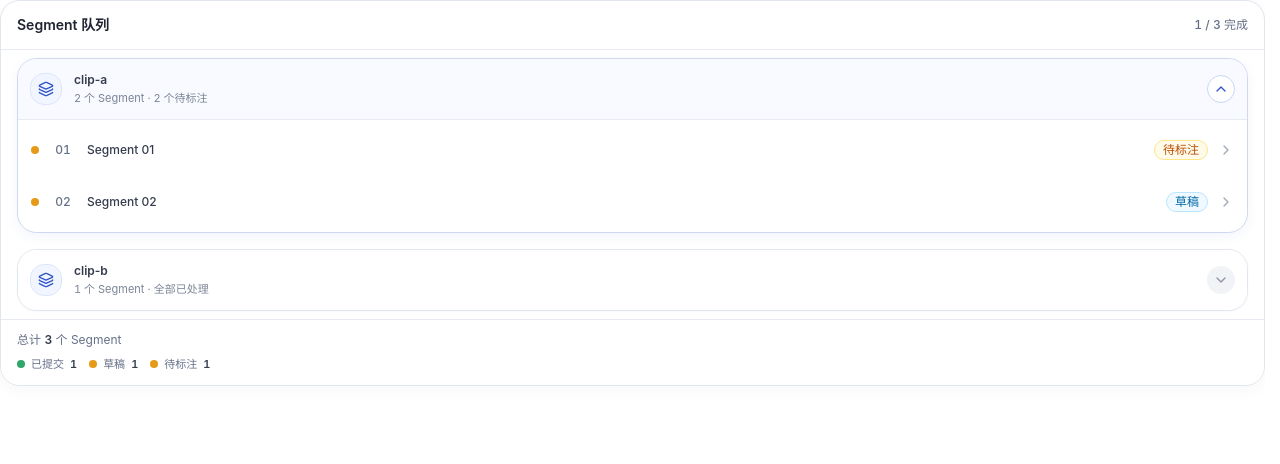
Test: groups by clip and orders numeric Segment navigation by ordinal
expect the button with aria-label "打开 Segment 01，待标注" is shown: met, box [22,124,1243,176]
expect the button with aria-label "打开 Segment 02，草稿" is shown: met, box [22,176,1243,228]
Click the button with aria-label "展开外层 clip clip-b" at (46, 280), box [18,250,1247,310]
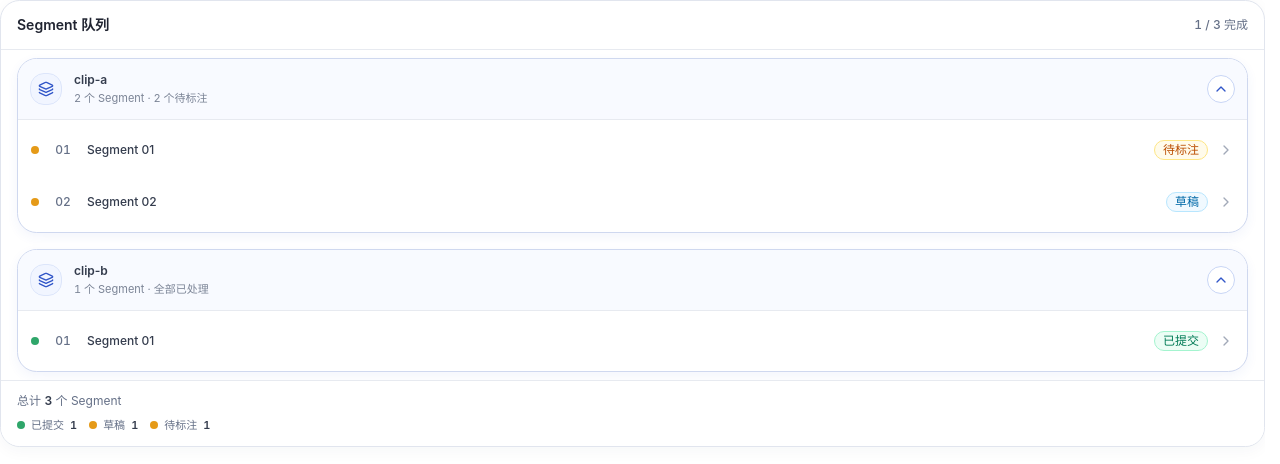
expect the element "clip-a" is shown: met, box [17,58,1248,233]
expect the button with aria-label "打开 Segment 01，已提交" is shown: met, box [22,315,1243,367]
